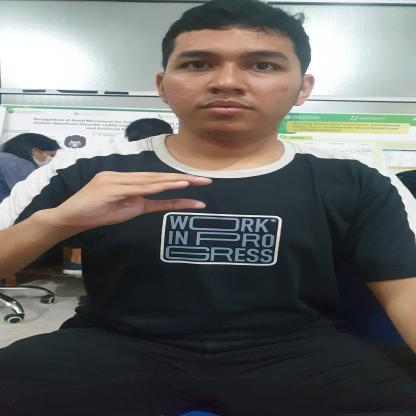Pagi: (40, 168, 220, 227)
